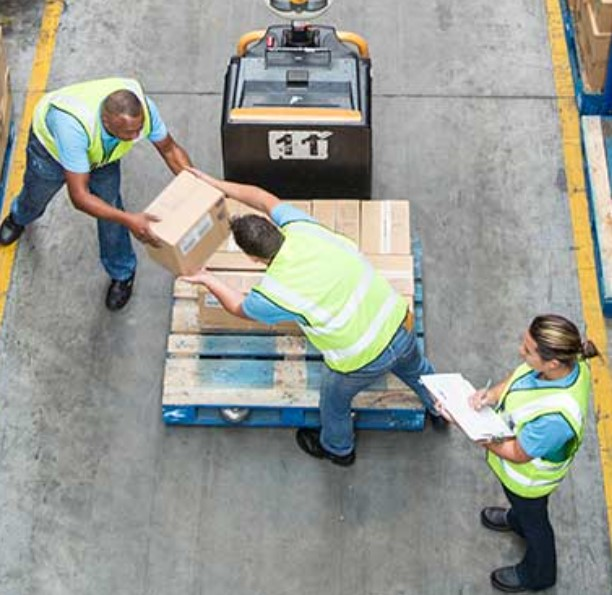stock: (143, 170, 230, 277)
worker: (240, 218, 404, 373), (487, 317, 591, 497), (31, 76, 152, 175)
